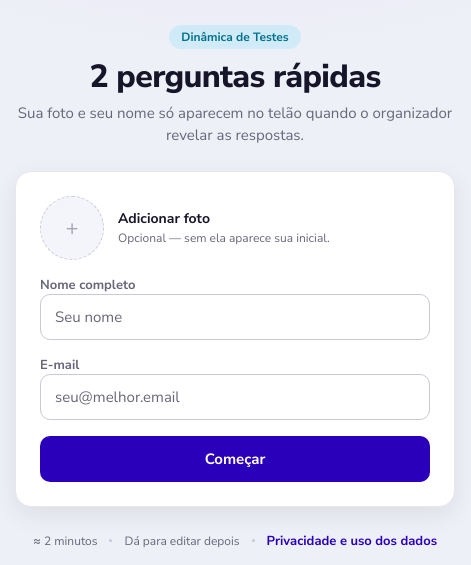
Test case: Tela de respostas do participante › exige nome e e-mail válidos antes de iniciar
(page scrolled)
Expected: the text "Dinâmica de Testes" is shown, [169, 25, 301, 49]
Click the button "Começar" at point(235, 459), box [40, 436, 430, 482]
(page scrolled)
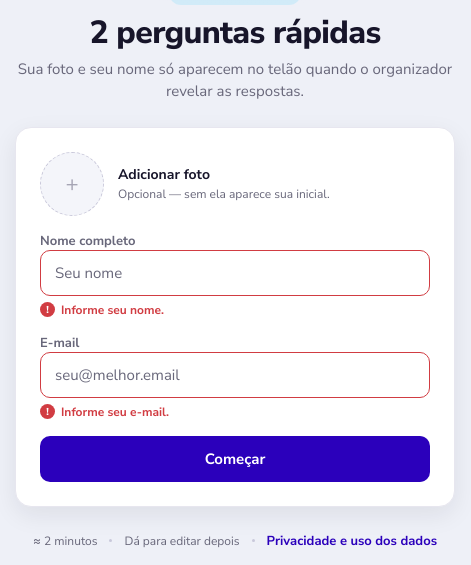
Expected: the text "Informe seu nome." is shown, [61, 302, 164, 318]
Expected: the text "Informe seu e-mail." is shown, [61, 404, 169, 420]
Type "Ana" into the field labelled "Nome completo" at point(235, 273), box [40, 250, 430, 296]
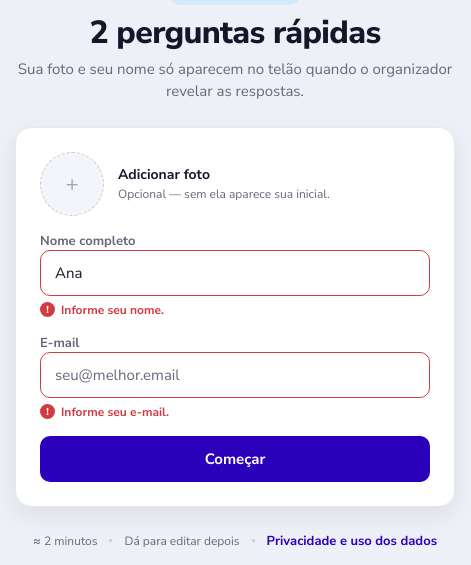
Type "não-é-email" into the field labelled "E-mail" at point(235, 375), box [40, 352, 430, 398]
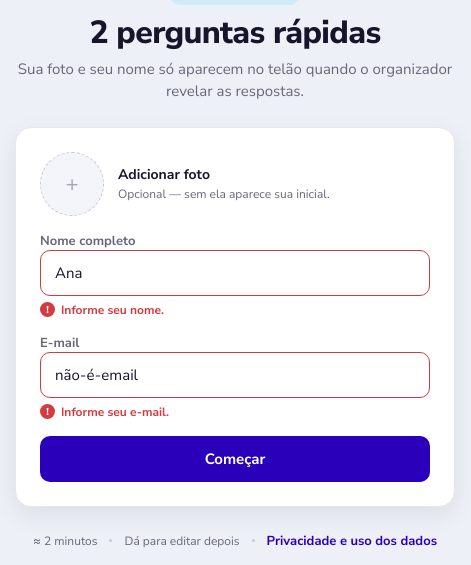
Click the button "Começar" at point(235, 459), box [40, 436, 430, 482]
(page scrolled)
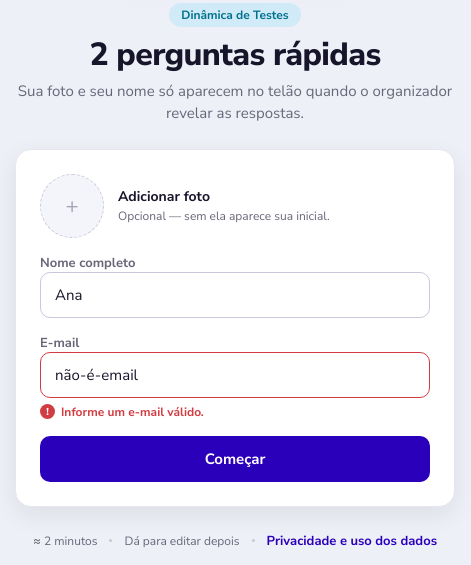
Expected: the text "Informe um e-mail válido." is shown, [61, 404, 204, 420]
